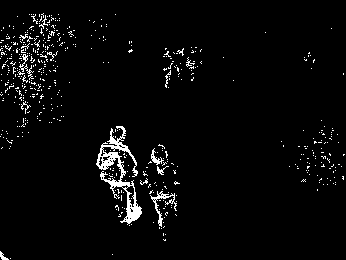person: (100, 122, 138, 225), (145, 145, 183, 246)
